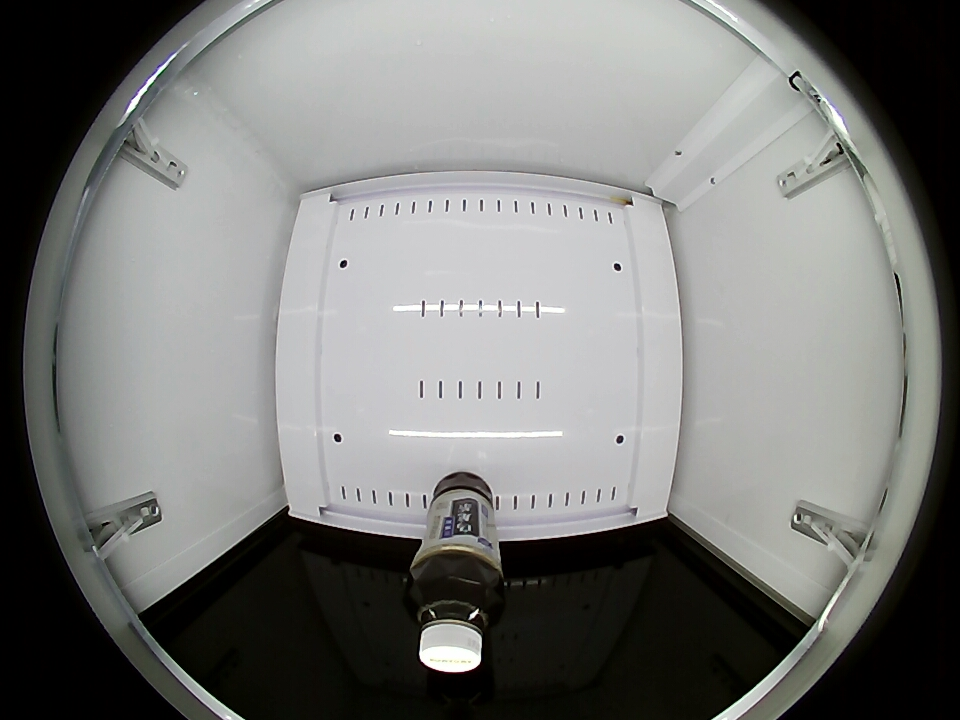wulongcha: (408, 564, 505, 673)
